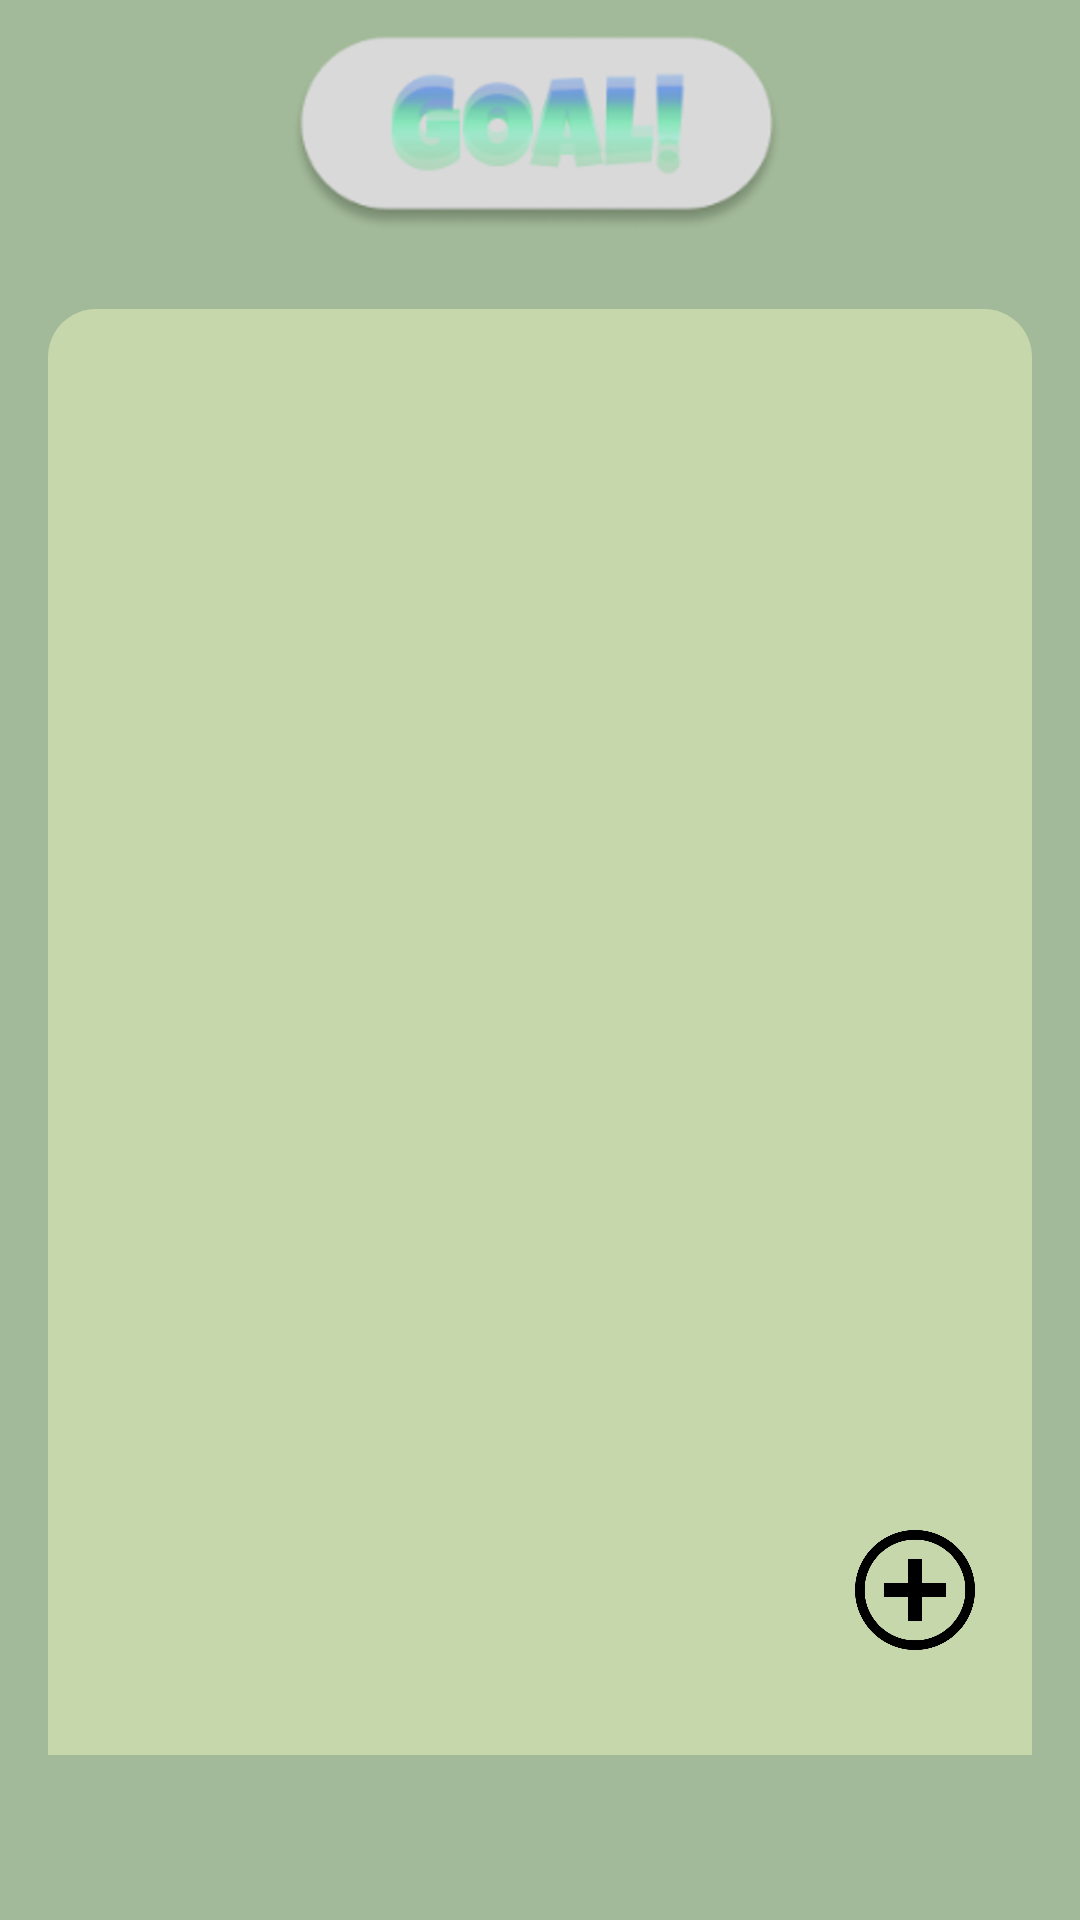

Where to tap for icons on this 1080*1920 app screen, as (x,y):
add: (915,1590)
